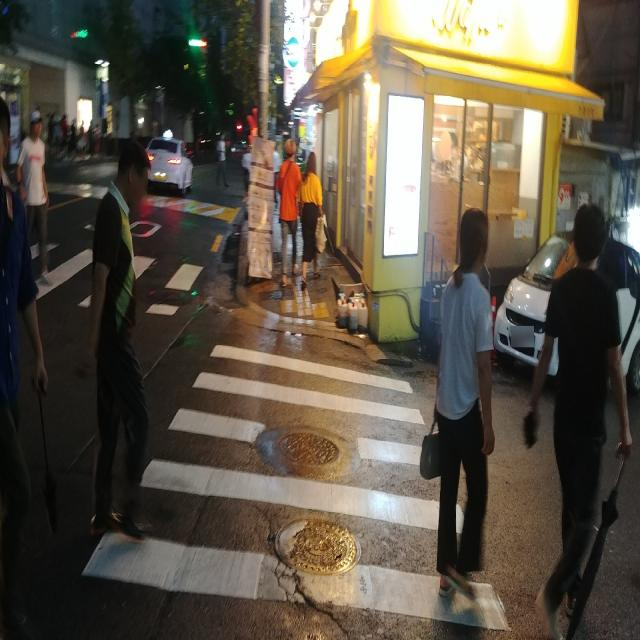횡단보도: (80, 343, 512, 637), (0, 243, 207, 322)
